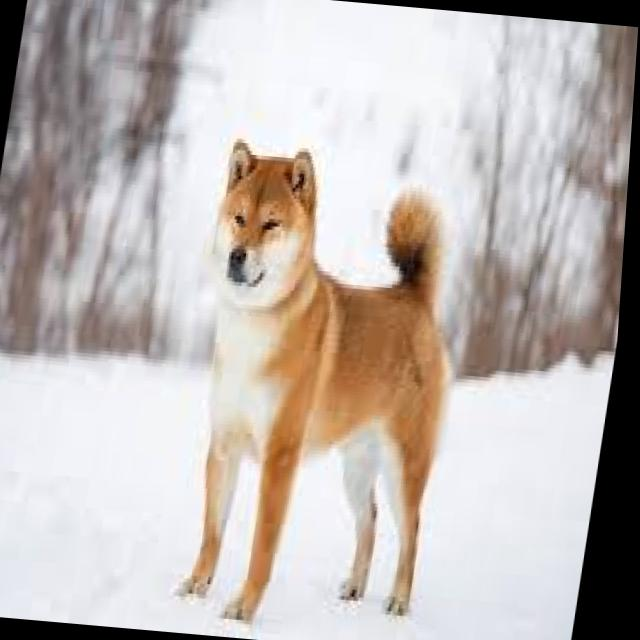Shiba-Inu: (162, 136, 489, 640)
